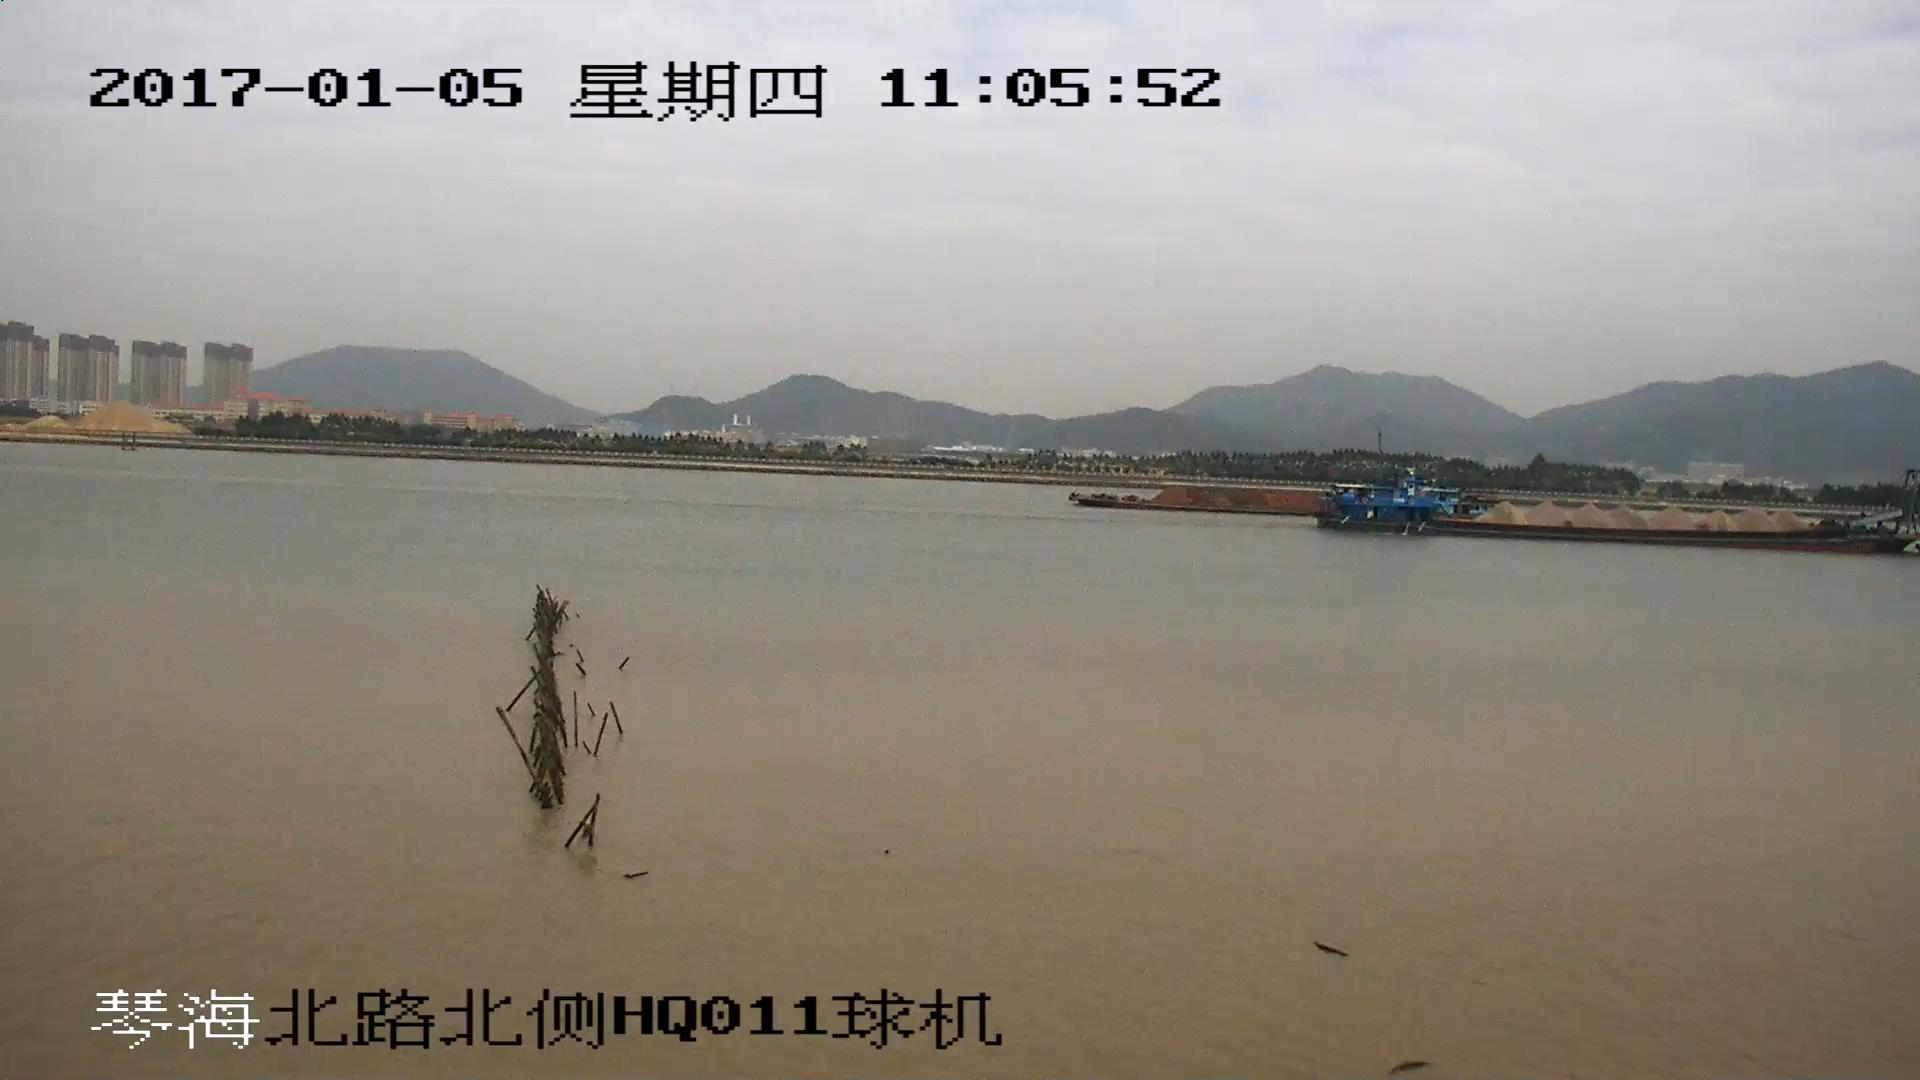ore carrier: (1328, 482, 1920, 546), (1074, 484, 1322, 518)
